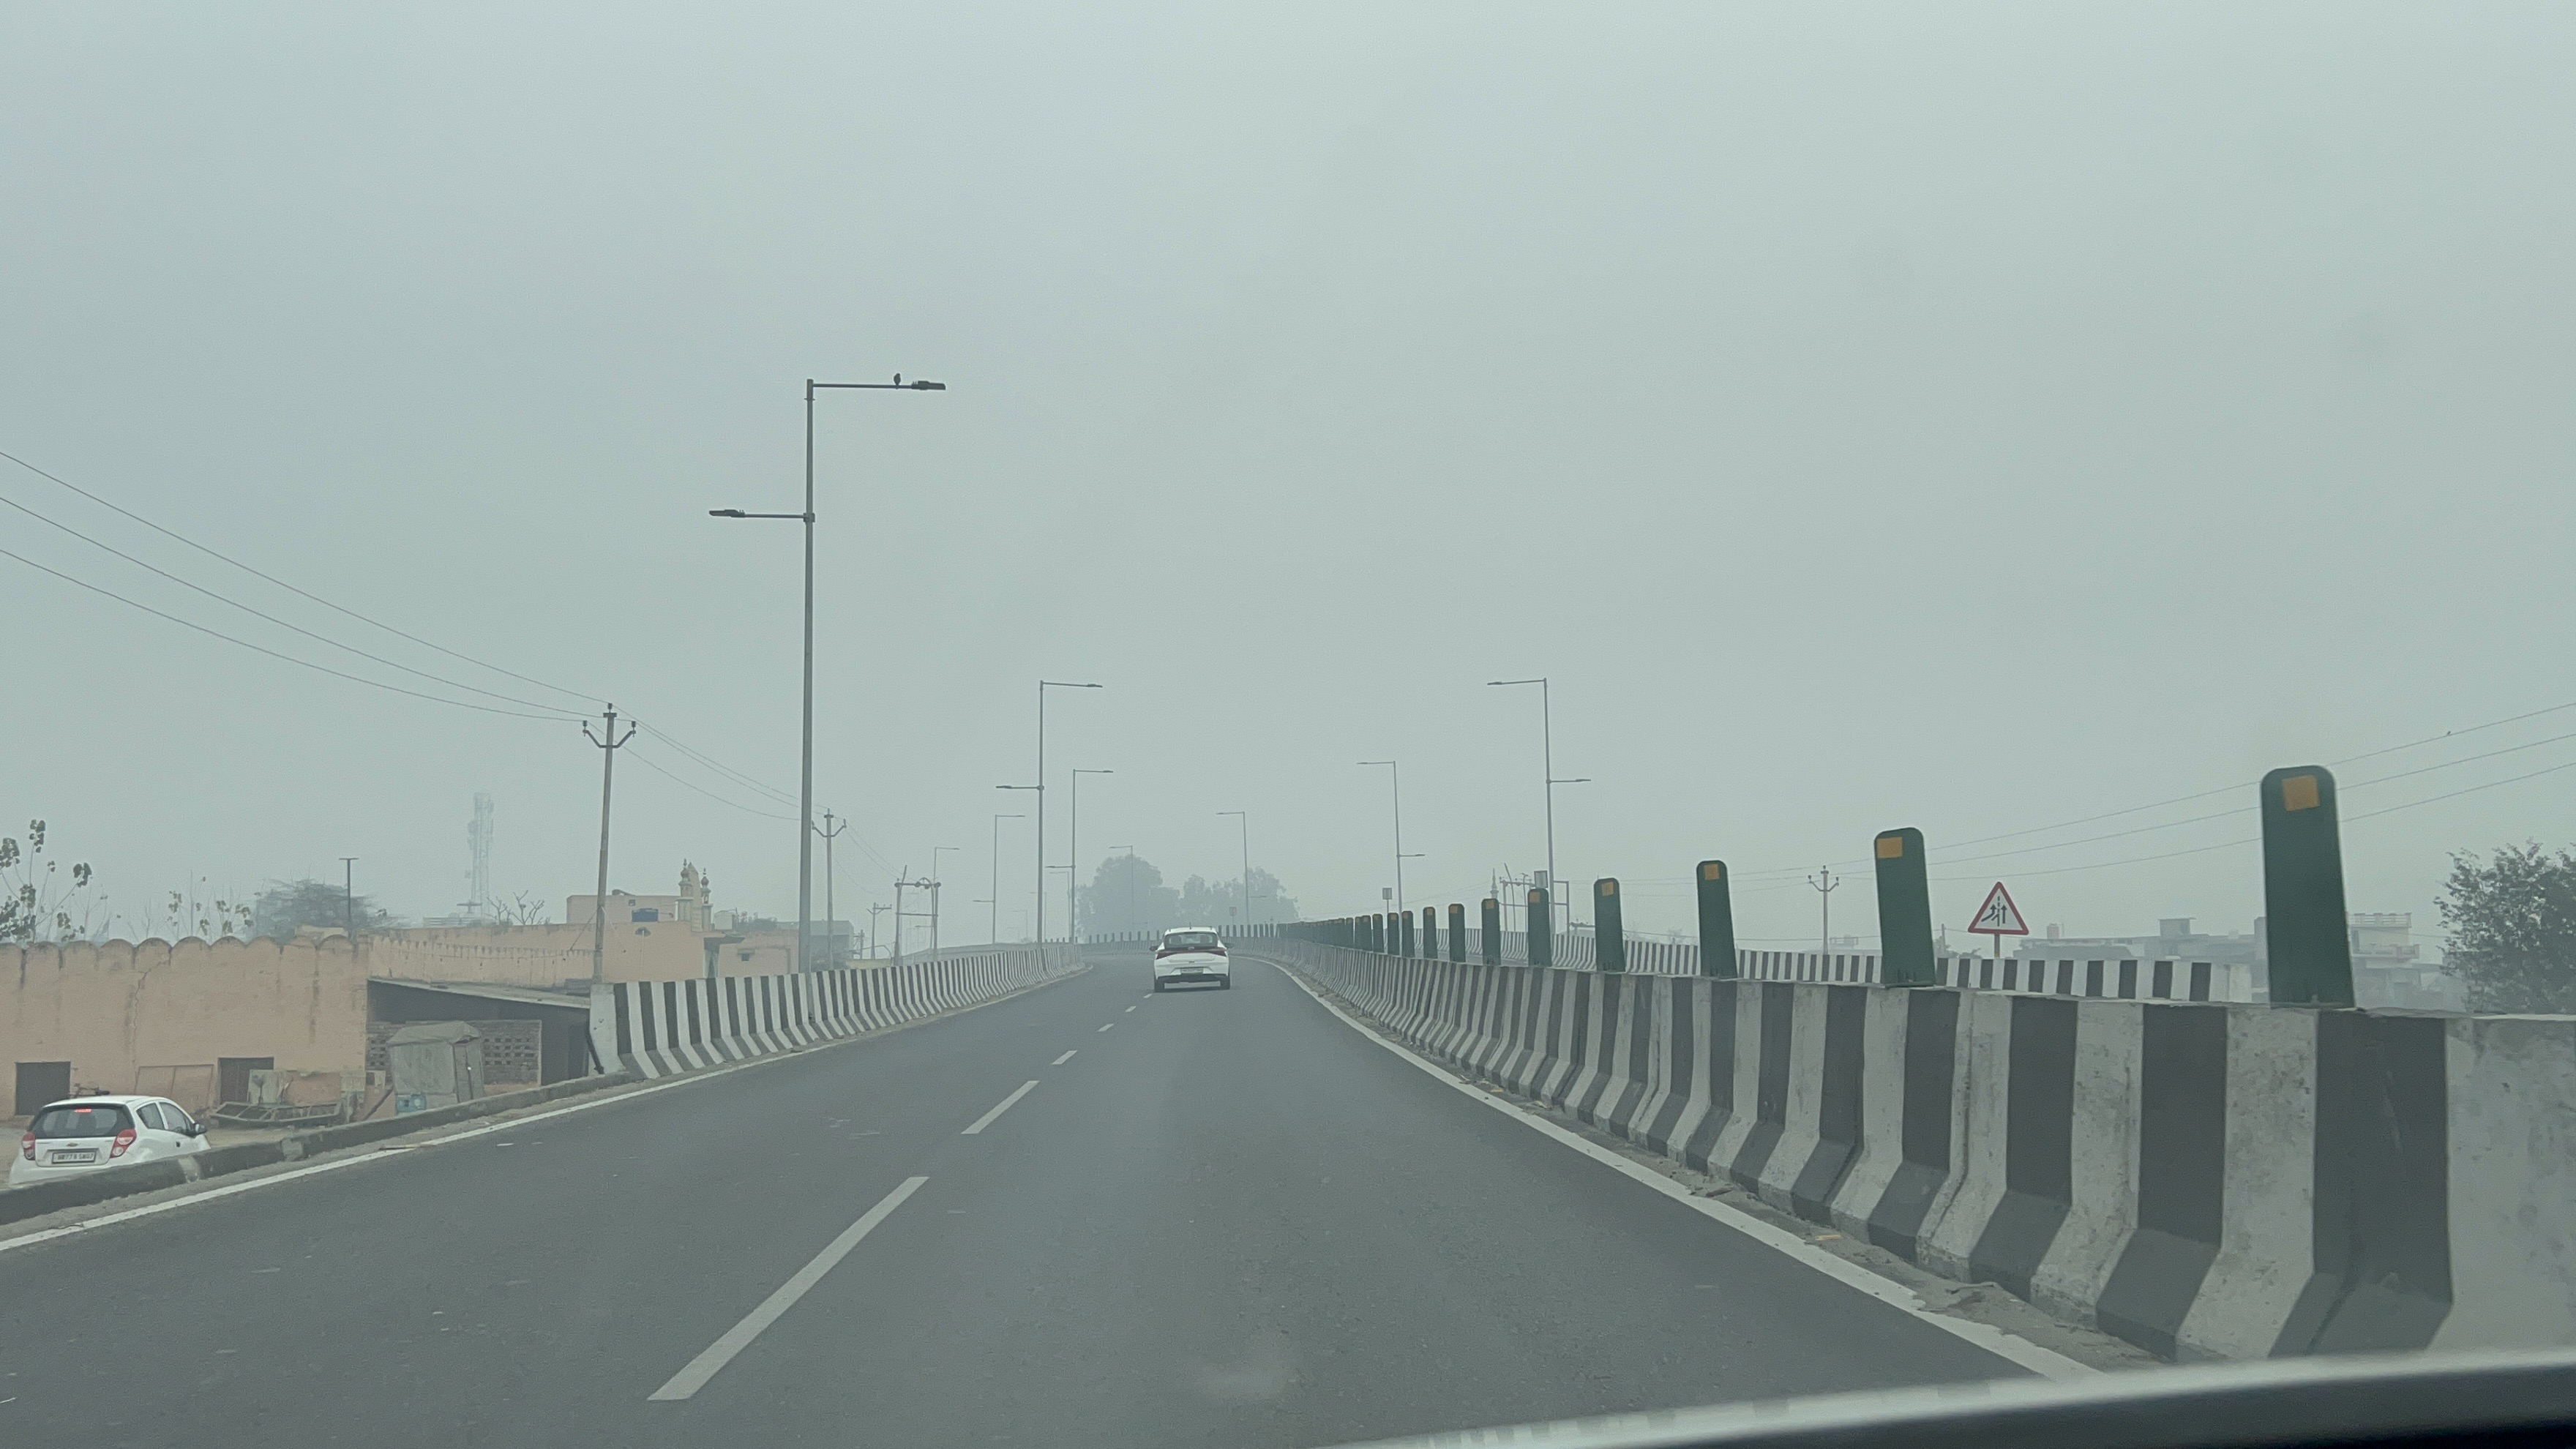Warning: (1962, 872, 2036, 936)
